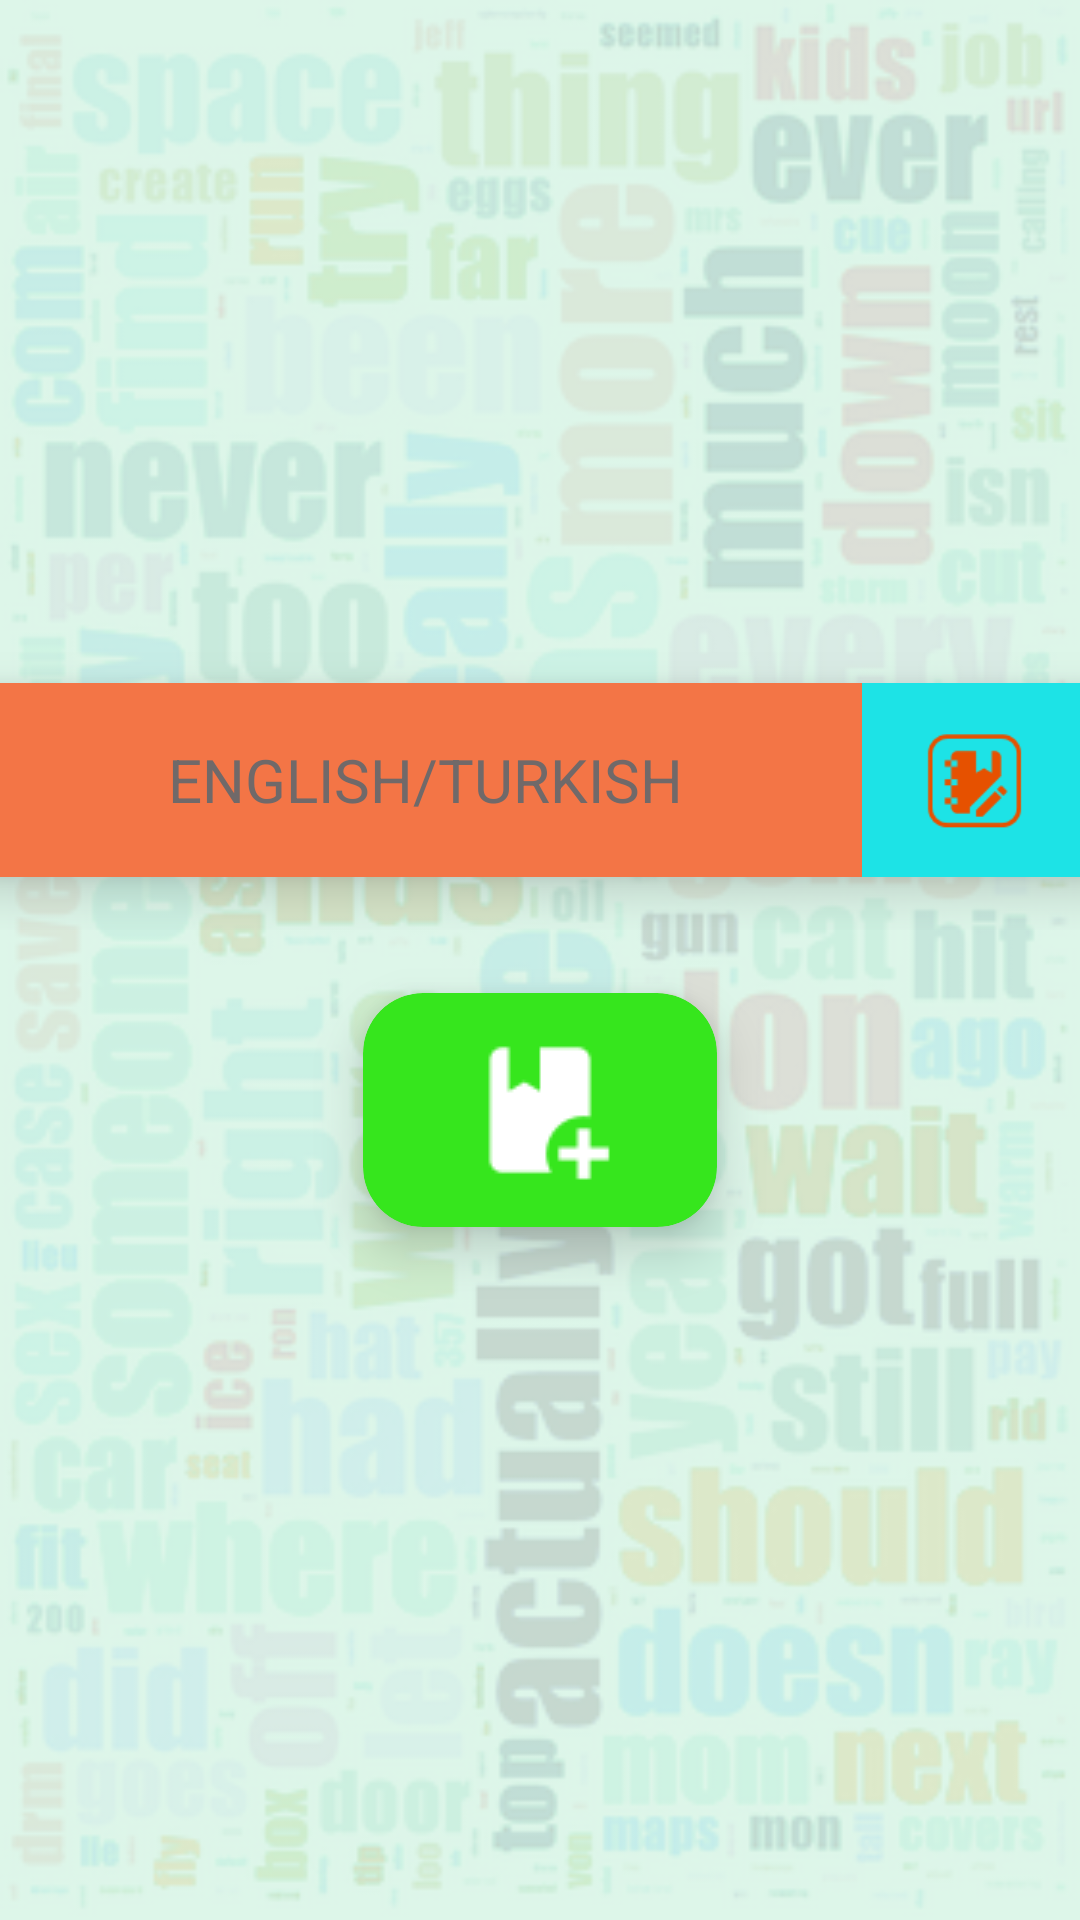

Screen size 1080 × 1920. Icon name, then its box in pixels as [x1,y1,x2,y2]:
bookplus: [488,1046,610,1180]
notebookedit: [927,734,1022,828]
